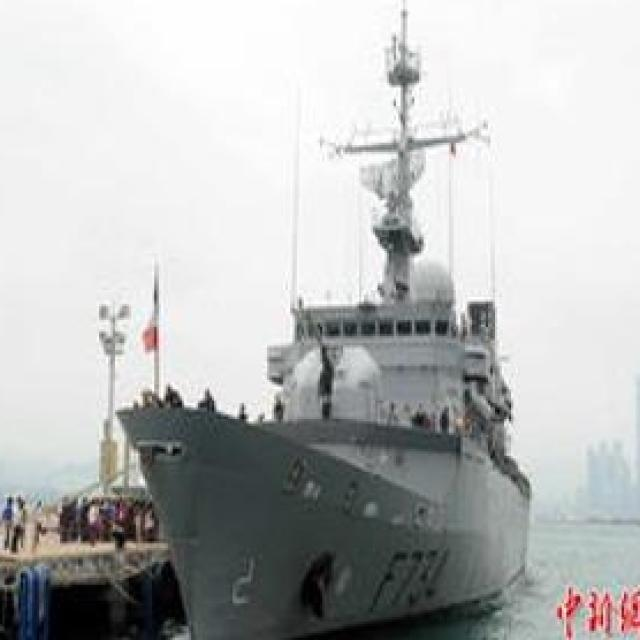navalvessels: (112, 20, 536, 640)
